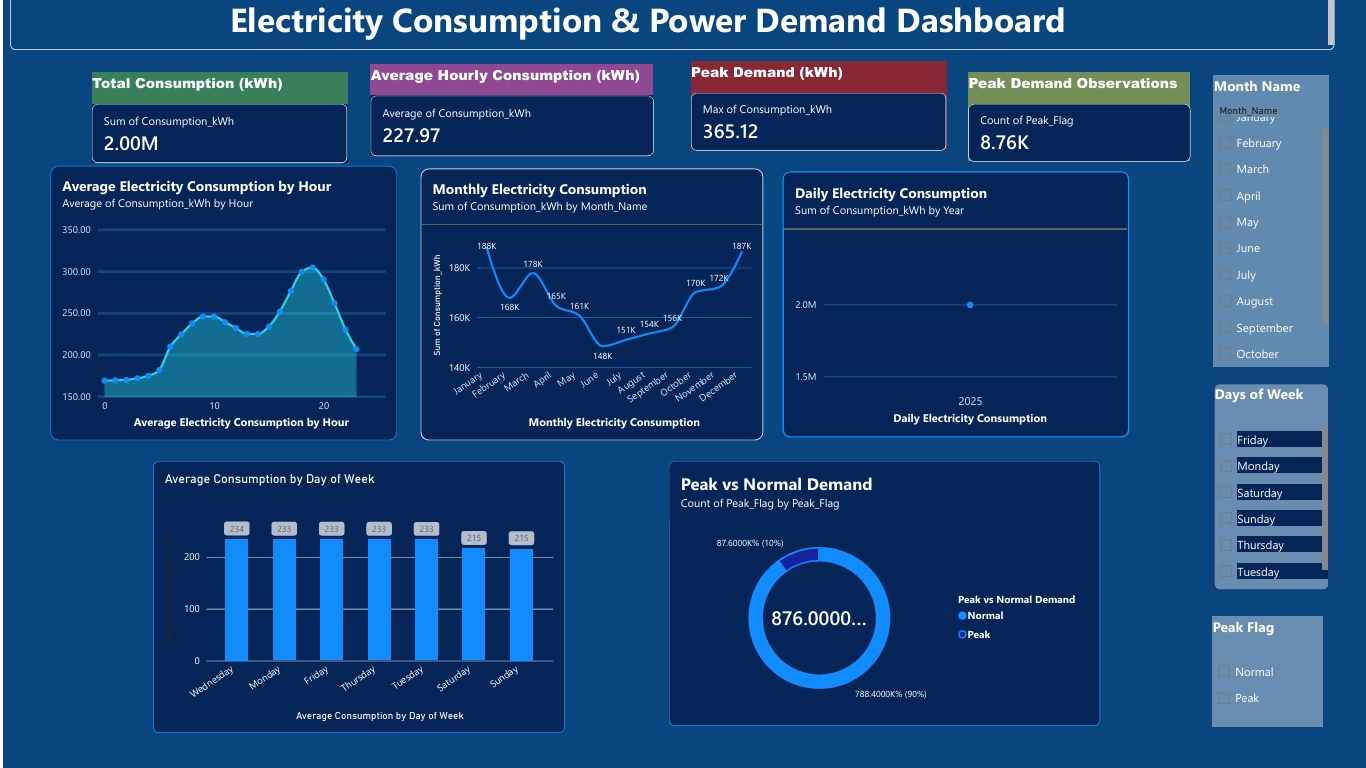

Layout of this report page (visuals, bound fields, positions):
{"tool":"powerbi","page":{"name":"Page 1","canvas":[1920,1080],"ordinal":0},"visuals":[{"type":"textbox","box":[10.3,0,1910.1,79],"z":0},{"type":"cardVisual","title":"Total Consumption (kWh)","fields":{"Data":["Sum(electricity_cleaned.Consumption_kWh)"]},"box":[128,112,368,130],"z":1000},{"type":"cardVisual","title":"Average Hourly Consumption (kWh)","fields":{"Data":["Avg(electricity_cleaned.Consumption_kWh)"]},"box":[530,100,408,132],"z":2000},{"type":"cardVisual","title":"Peak Demand (kWh)","fields":{"Data":["Max(electricity_cleaned.Consumption_kWh)"]},"box":[992,96,368,128],"z":3000},{"type":"areaChart","title":"Average Electricity Consumption by Hour","fields":{"Category":["electricity_cleaned.Hour"],"Y":["Avg(electricity_cleaned.Consumption_kWh)"]},"box":[68,246,500,396],"z":4000},{"type":"cardVisual","title":"Peak Demand Observations","fields":{"Data":["CountNonNull(electricity_cleaned.Peak_Flag)"]},"box":[1392,112,320,128],"z":5000},{"type":"lineChart","title":"Daily Electricity Consumption","fields":{"Category":["electricity_cleaned.Date.Variation.Date Hierarchy.Year","electricity_cleaned.Date.Variation.Date Hierarchy.Quarter","electricity_cleaned.Date.Variation.Date Hierarchy.Month","electricity_cleaned.Date.Variation.Date Hierarchy.Day"],"Y":["Sum(electricity_cleaned.Consumption_kWh)"]},"box":[1124,254,500,384],"z":6000},{"type":"lineChart","title":"Monthly Electricity Consumption","fields":{"Category":["electricity_cleaned.Month_Name"],"Y":["Sum(electricity_cleaned.Consumption_kWh)"]},"box":[602,250,494,392],"z":7000},{"type":"lineClusteredColumnComboChart","title":"Average Consumption by Day of Week","fields":{"Category":["electricity_cleaned.Day_of_Week"],"Y":["Avg(electricity_cleaned.Consumption_kWh)"]},"box":[216,672,594,392],"z":8000},{"type":"donutChart","title":"Peak vs Normal Demand","fields":{"Category":["electricity_cleaned.Peak_Flag"],"Y":["CountNonNull(electricity_cleaned.Peak_Flag)"]},"box":[960,672,622,382],"z":9000},{"type":"slicer","title":"Days of Week","fields":{"Values":["electricity_cleaned.Day_of_Week"]},"box":[1746,560,166,298],"z":10000},{"type":"slicer","title":"Month Name","fields":{"Values":["electricity_cleaned.Month_Name"]},"box":[1745,115,166,420],"z":11000},{"type":"slicer","title":"Peak Flag","fields":{"Values":["electricity_cleaned.Peak_Flag"]},"box":[1744,896,160,160],"z":12000}]}

Visuals, with their boxes in screenshot pixels (x1, y1, x2, y2), scaled from the page's 1920x1080 canvas onto the 1366x768 screenshot:
textbox: 7:0:1365:56
"Total Consumption (kWh)" cardVisual: 91:80:353:172
"Average Hourly Consumption (kWh)" cardVisual: 377:71:667:165
"Peak Demand (kWh)" cardVisual: 706:68:968:159
"Average Electricity Consumption by Hour" areaChart: 48:175:404:457
"Peak Demand Observations" cardVisual: 990:80:1218:171
"Daily Electricity Consumption" lineChart: 800:181:1155:454
"Monthly Electricity Consumption" lineChart: 428:178:780:457
"Average Consumption by Day of Week" lineClusteredColumnComboChart: 154:478:576:757
"Peak vs Normal Demand" donutChart: 683:478:1126:750
"Days of Week" slicer: 1242:398:1360:610
"Month Name" slicer: 1241:82:1360:380
"Peak Flag" slicer: 1241:637:1355:751
